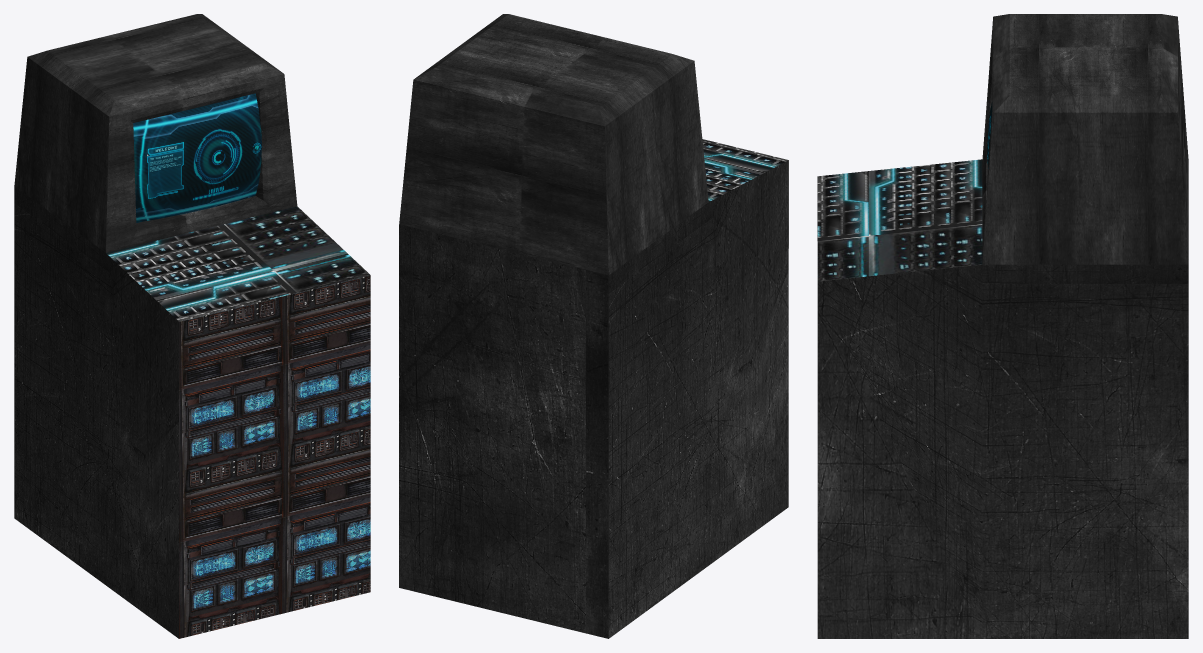
The model's file is komputer.FBX.
The picture shows the model from 3 angles, left to right: view 1: azimuth 30°, elevation 25°; view 2: azimuth 150°, elevation 25°; view 3: azimuth 270°, elevation 25°; orthographic projection. The views are drawn at different scales.
Visible parts, largest first — view 1: Object002, Sphere002; view 2: Object002; view 3: Object002.
Boxes of the visible parts, bbox=[...] form: Object002: bbox=[14, 14, 370, 638]; Sphere002: bbox=[133, 93, 262, 222]; Object002: bbox=[399, 14, 788, 638]; Object002: bbox=[817, 14, 1188, 638].
Size of the model in its own units: 23.81 by 56.01 by 35.47.
6 materials, 4 textured.
